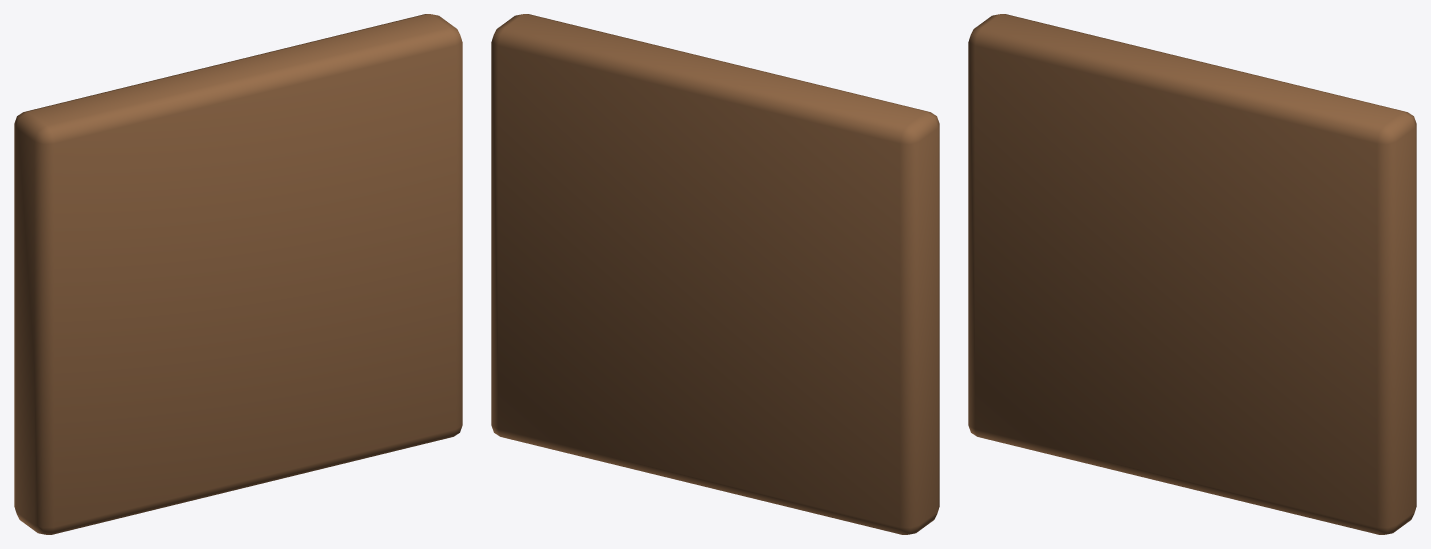
The model's file is farm_plot_empty.glb.
The picture shows the model from 3 angles, left to right: view 1: azimuth 30°, elevation 25°; view 2: azimuth 150°, elevation 25°; view 3: azimuth 330°, elevation 25°; orthographic projection.
Visible parts, largest first — view 1: Soil; view 2: Soil; view 3: Soil.
Boxes of the visible parts, left/top/right/bottom form: Soil: left=14, top=14, right=462, bottom=534; Soil: left=491, top=14, right=939, bottom=534; Soil: left=968, top=14, right=1416, bottom=534.
Bounding box in the file's own units: 1.2 × 1.1 × 0.16.
